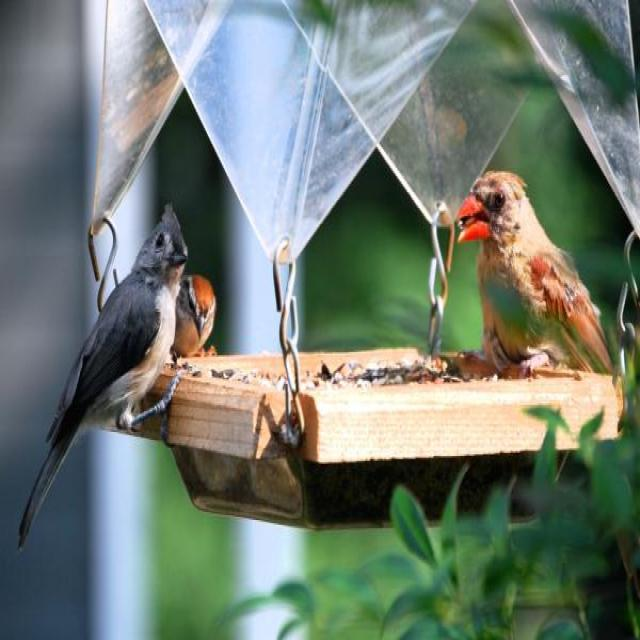bird: (449, 146, 640, 564), (17, 184, 190, 547), (162, 261, 229, 373)
